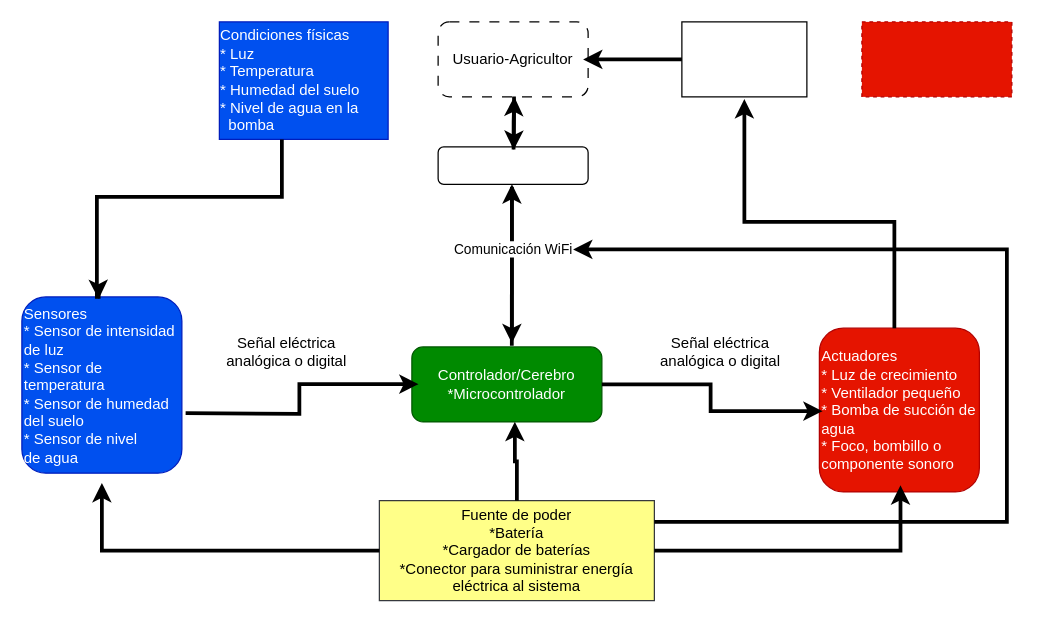
Image size: 1040x623. Some labels were removed from this diagram. Each missing label, with the box of its shape:
*Luz artificial * Ventilación * Irrigación: (861, 21, 1012, 97)
Cultivo de elección: (681, 21, 807, 97)
Dispositivo móvil: (437, 146, 588, 184)
